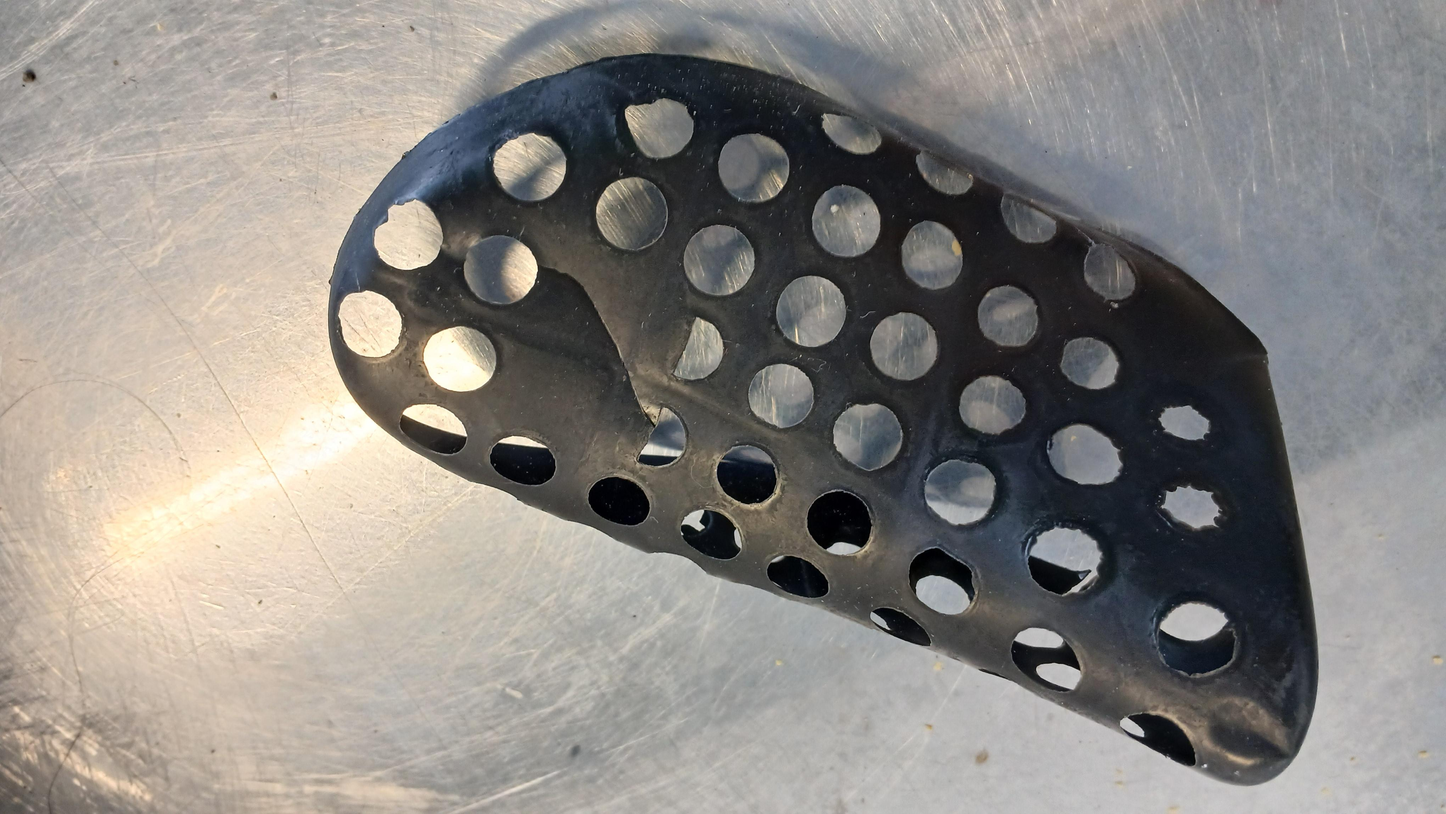Ordinario: (332, 51, 1317, 784)
